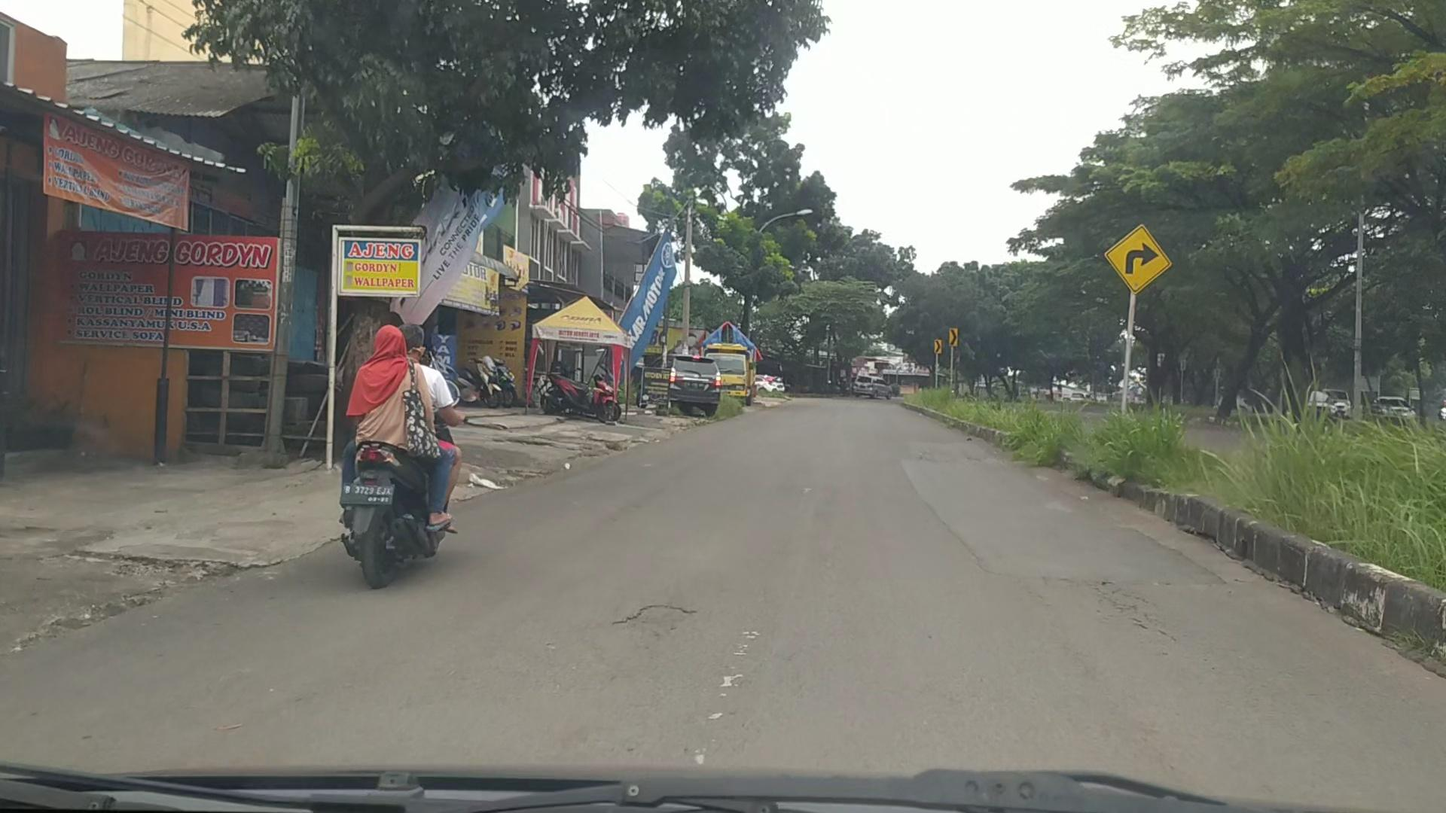pothole: (610, 603, 698, 628)
